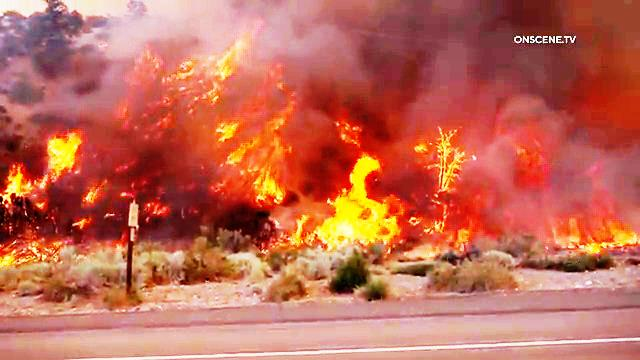fire: (92, 16, 253, 142), (192, 72, 297, 231), (297, 107, 391, 250), (390, 131, 468, 259), (554, 197, 640, 256), (44, 124, 89, 187), (0, 160, 39, 209)
smoke: (308, 6, 490, 84), (477, 55, 636, 141), (0, 25, 67, 119)
